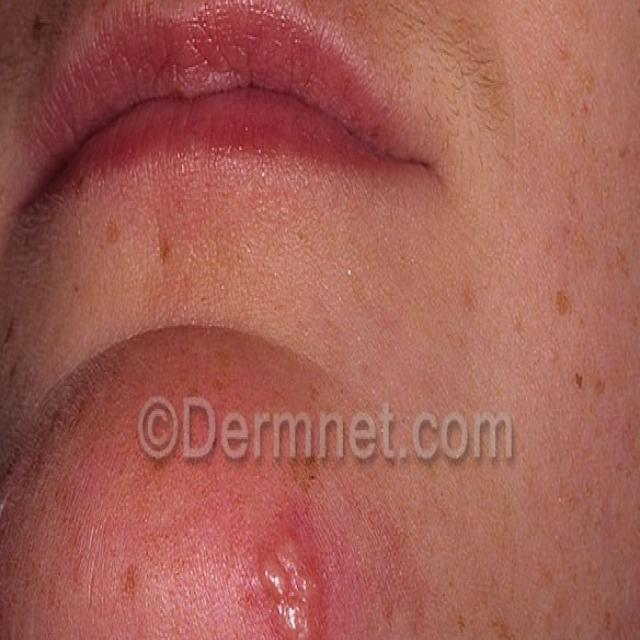Viral Infections: (251, 515, 323, 640)
